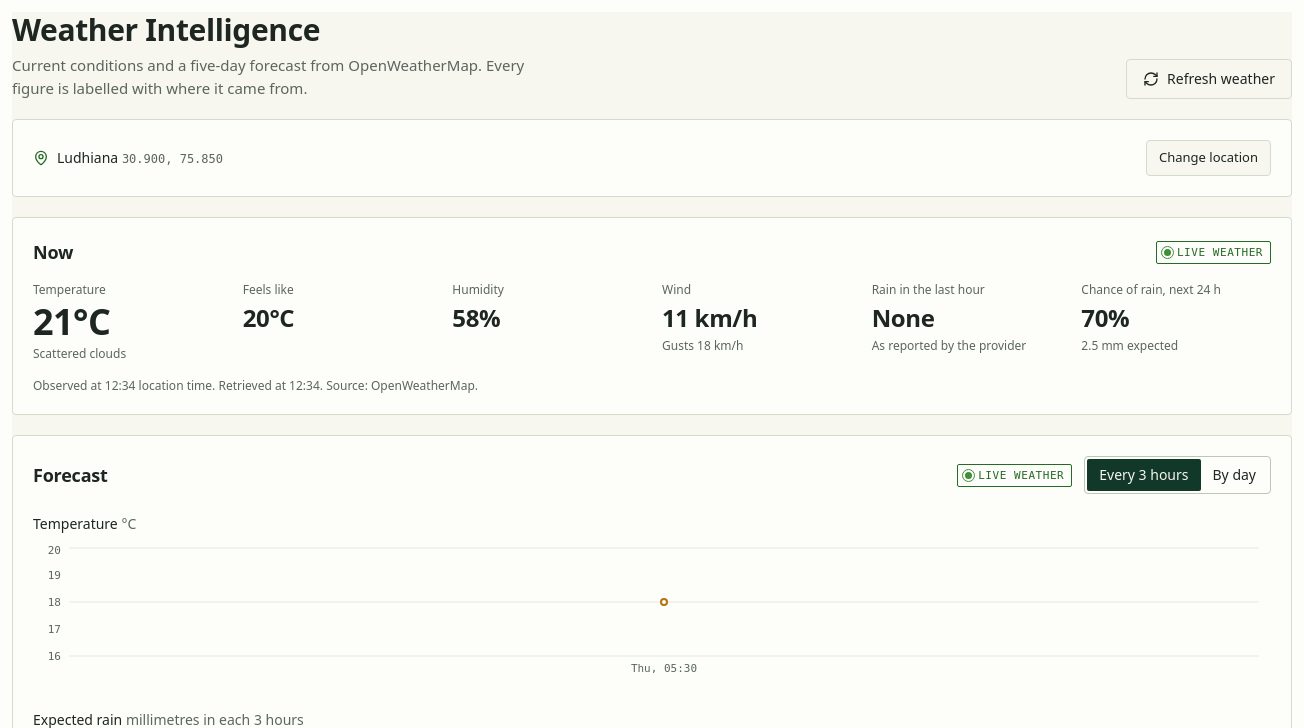
Test: WeatherPage › stops claiming live when a refresh fails
Expected: the text "21°C" is shown, [33,297,110,346]
Expected: the text "Live weather" is shown, [1156,240,1271,264]
Click the button "Refresh weather": (1209, 79) [1126,59,1292,99]
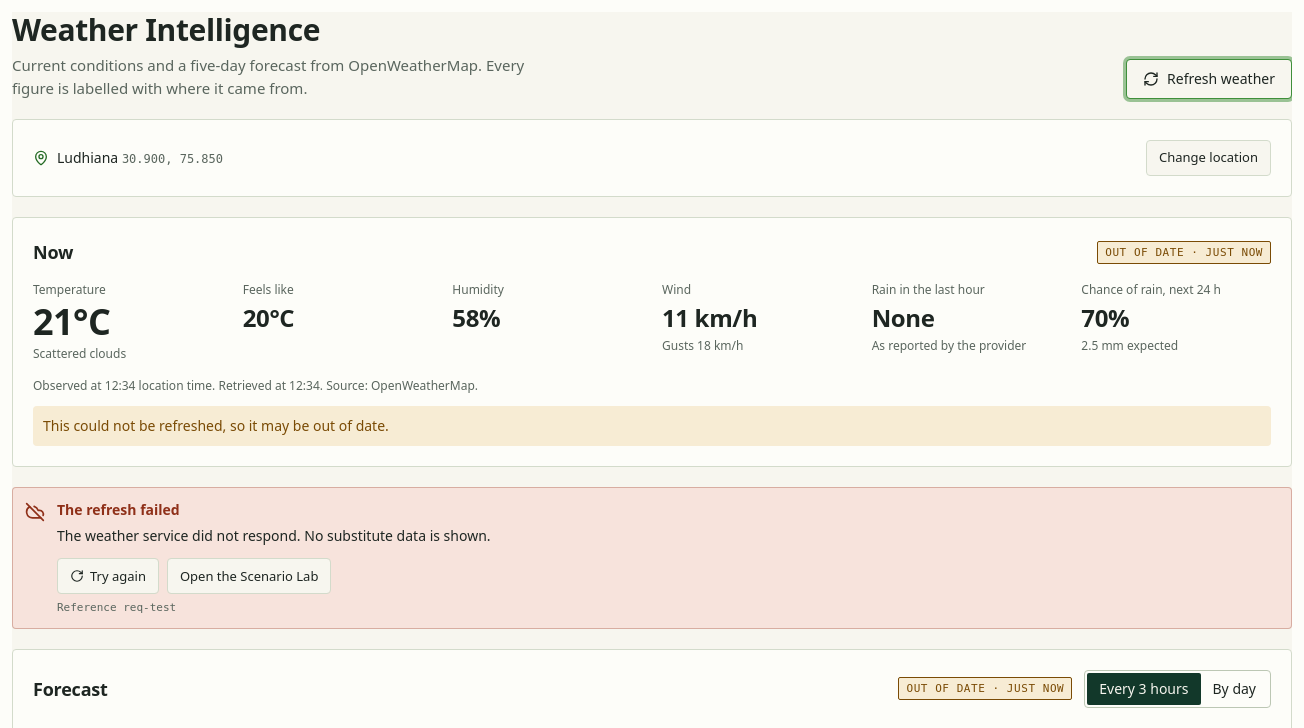
Expected: the text "21°C" is shown, [33,297,110,346]
Expected: the text "The refresh failed" is shown, [57,500,180,519]
Expected: the text "Live weather" is gone
